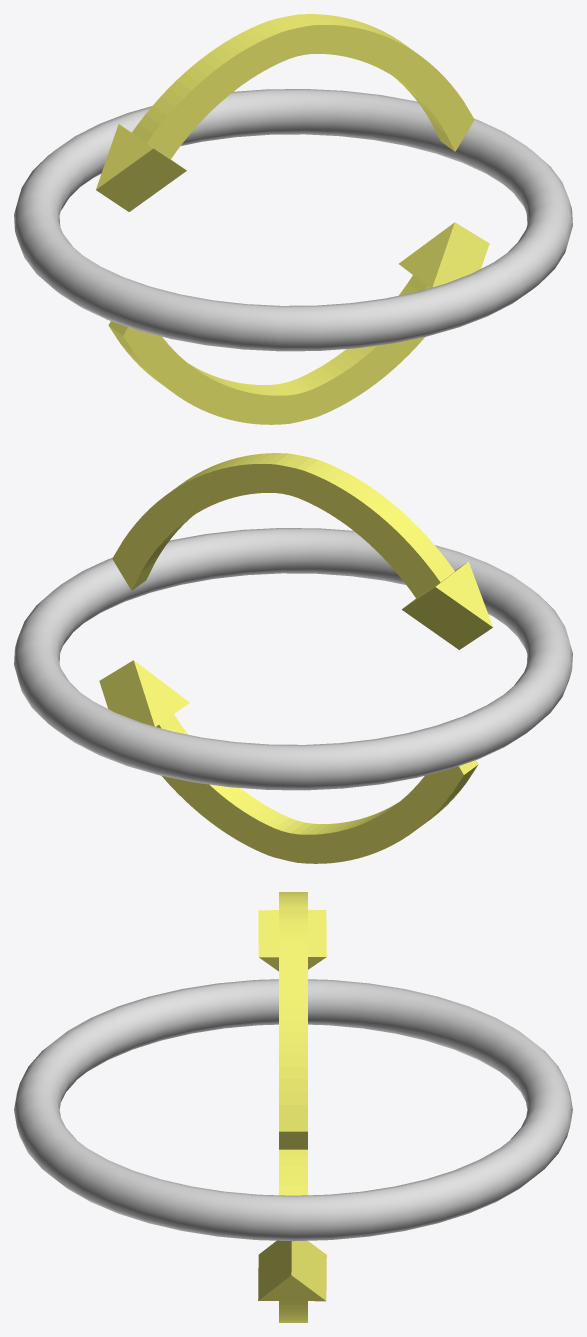
Rendered from swapPolje - Copy.fbx.
The picture shows the model from 3 angles, top to bottom: view 1: azimuth 30°, elevation 25°; view 2: azimuth 150°, elevation 25°; view 3: azimuth 270°, elevation 25°; orthographic projection.
Parts seen in each view (by area): view 1: Torus, strelicaGornja, strelicaDonja; view 2: Torus, strelicaGornja, strelicaDonja; view 3: Torus, strelicaGornja, strelicaDonja.
Part boxes in pixels (left/top/right/bottom): Torus: left=14, top=89, right=572, bottom=351; strelicaGornja: left=96, top=14, right=474, bottom=211; strelicaDonja: left=108, top=222, right=489, bottom=424; Torus: left=14, top=528, right=572, bottom=790; strelicaGornja: left=112, top=453, right=492, bottom=649; strelicaDonja: left=99, top=660, right=478, bottom=863; Torus: left=14, top=979, right=572, bottom=1241; strelicaGornja: left=258, top=892, right=326, bottom=1149; strelicaDonja: left=258, top=1149, right=326, bottom=1322.
Size of the model in its own units: 196 by 152 by 196.
